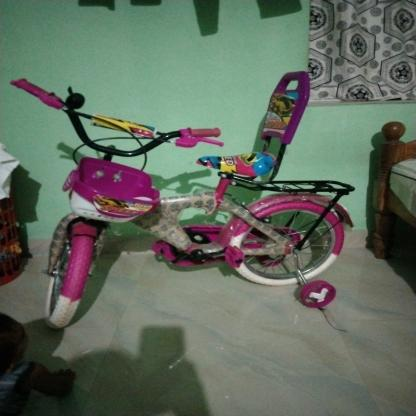bike: (9, 56, 373, 349)
